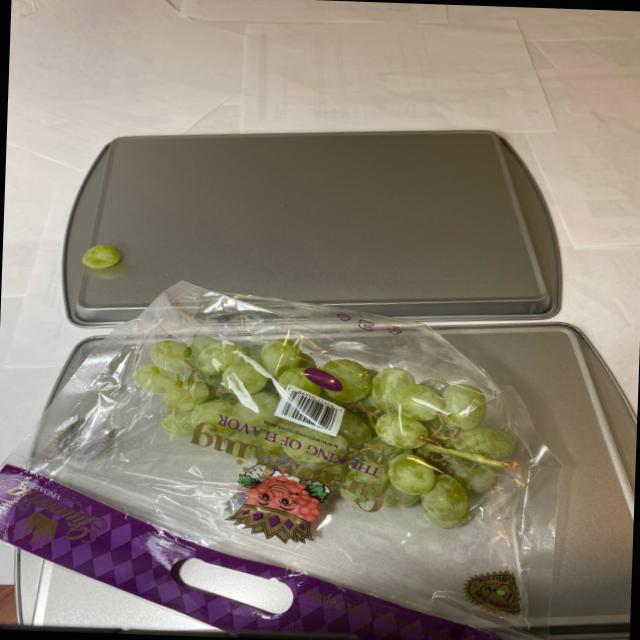grapes: (137, 326, 538, 536)
